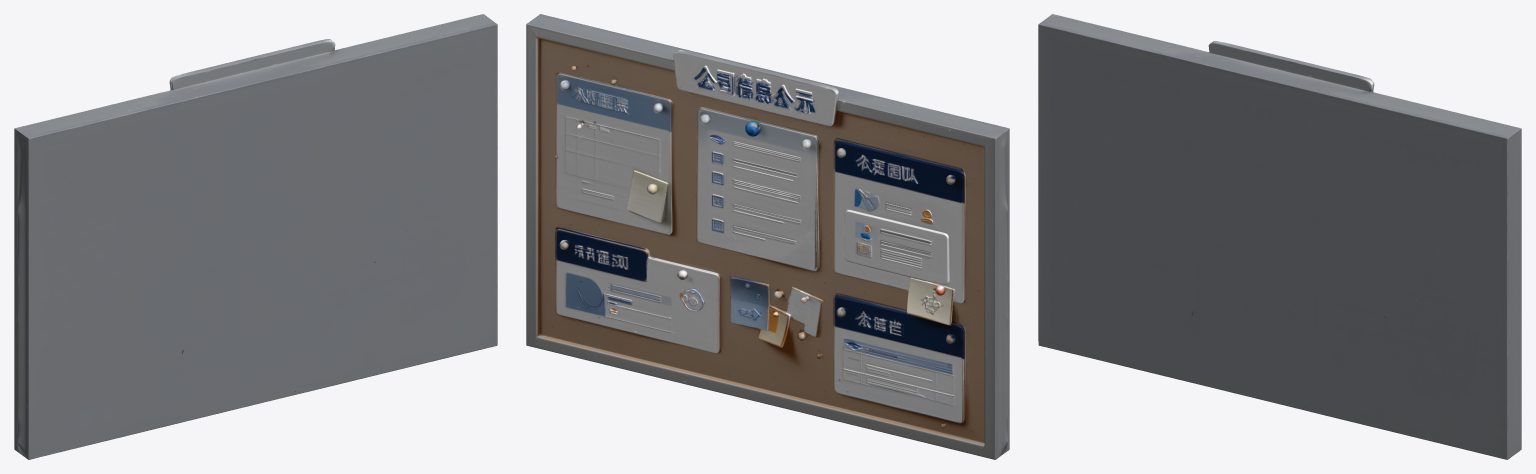
Rendered from SM_J_BulletinBoard.glb.
3 views of the same model, side by side, from view 1: azimuth 30°, elevation 25°; view 2: azimuth 150°, elevation 25°; view 3: azimuth 330°, elevation 25° (orthographic).
Visible parts, largest first — view 1: SM_J_BulletinBoard; view 2: SM_J_BulletinBoard; view 3: SM_J_BulletinBoard.
Part boxes in pixels (x1,y1,x2,y2): SM_J_BulletinBoard: (14,14,497,459); SM_J_BulletinBoard: (526,14,1009,459); SM_J_BulletinBoard: (1038,14,1521,459).
Bounding box in the file's own units: 1.64 × 1.1 × 0.1233.
Materials: 1 (1 with a texture image).
